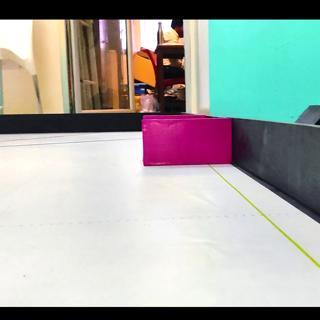xparking: (142, 120, 228, 164)
